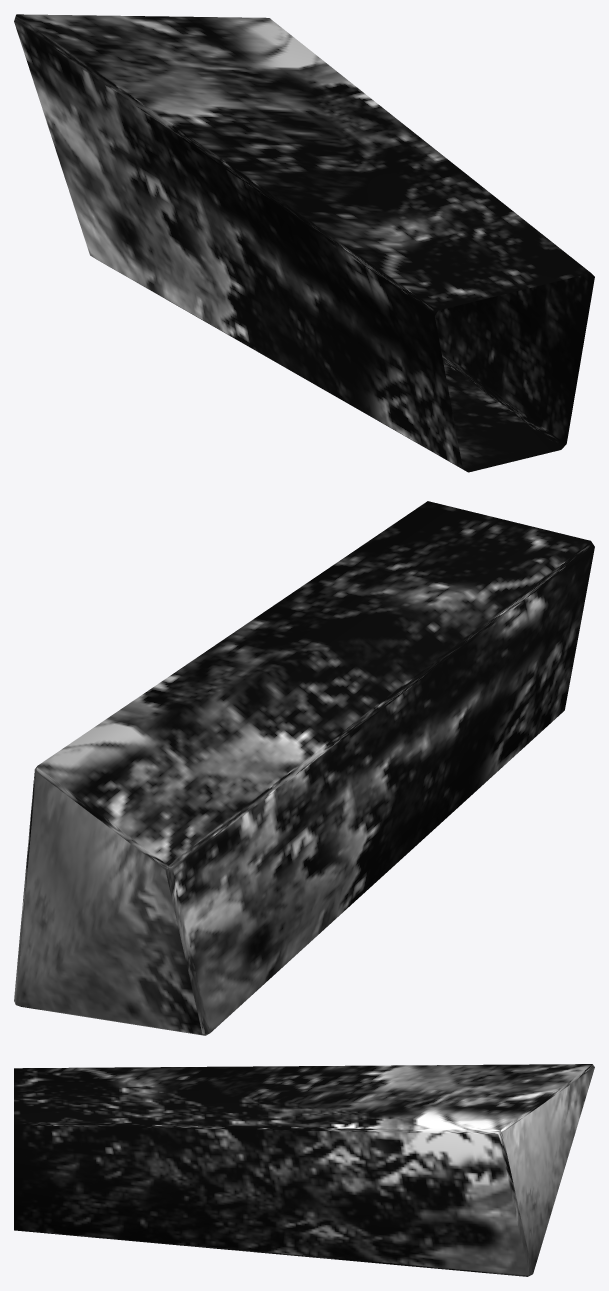
Rendered from MEP_Crystal_04.fbx.
3 renders of one model, top to bottom at view 1: azimuth 30°, elevation 25°; view 2: azimuth 150°, elevation 25°; view 3: azimuth 270°, elevation 25°, orthographic. The views are drawn at different scales.
Visible parts, largest first — view 1: MEP_Crystal_04; view 2: MEP_Crystal_04; view 3: MEP_Crystal_04.
Boxes of the visible parts, x1,y1,x2,y2 form: MEP_Crystal_04: (14, 14, 594, 472); MEP_Crystal_04: (14, 501, 594, 1035); MEP_Crystal_04: (14, 1064, 594, 1276).
Size of the model in its own units: 0.977 by 1.01 by 3.56.
Materials: 1 (1 with a texture image).
